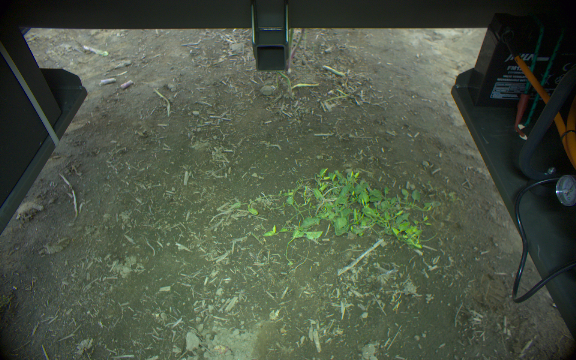aspa: (277, 71, 294, 97), (292, 28, 306, 58), (288, 29, 294, 68)
